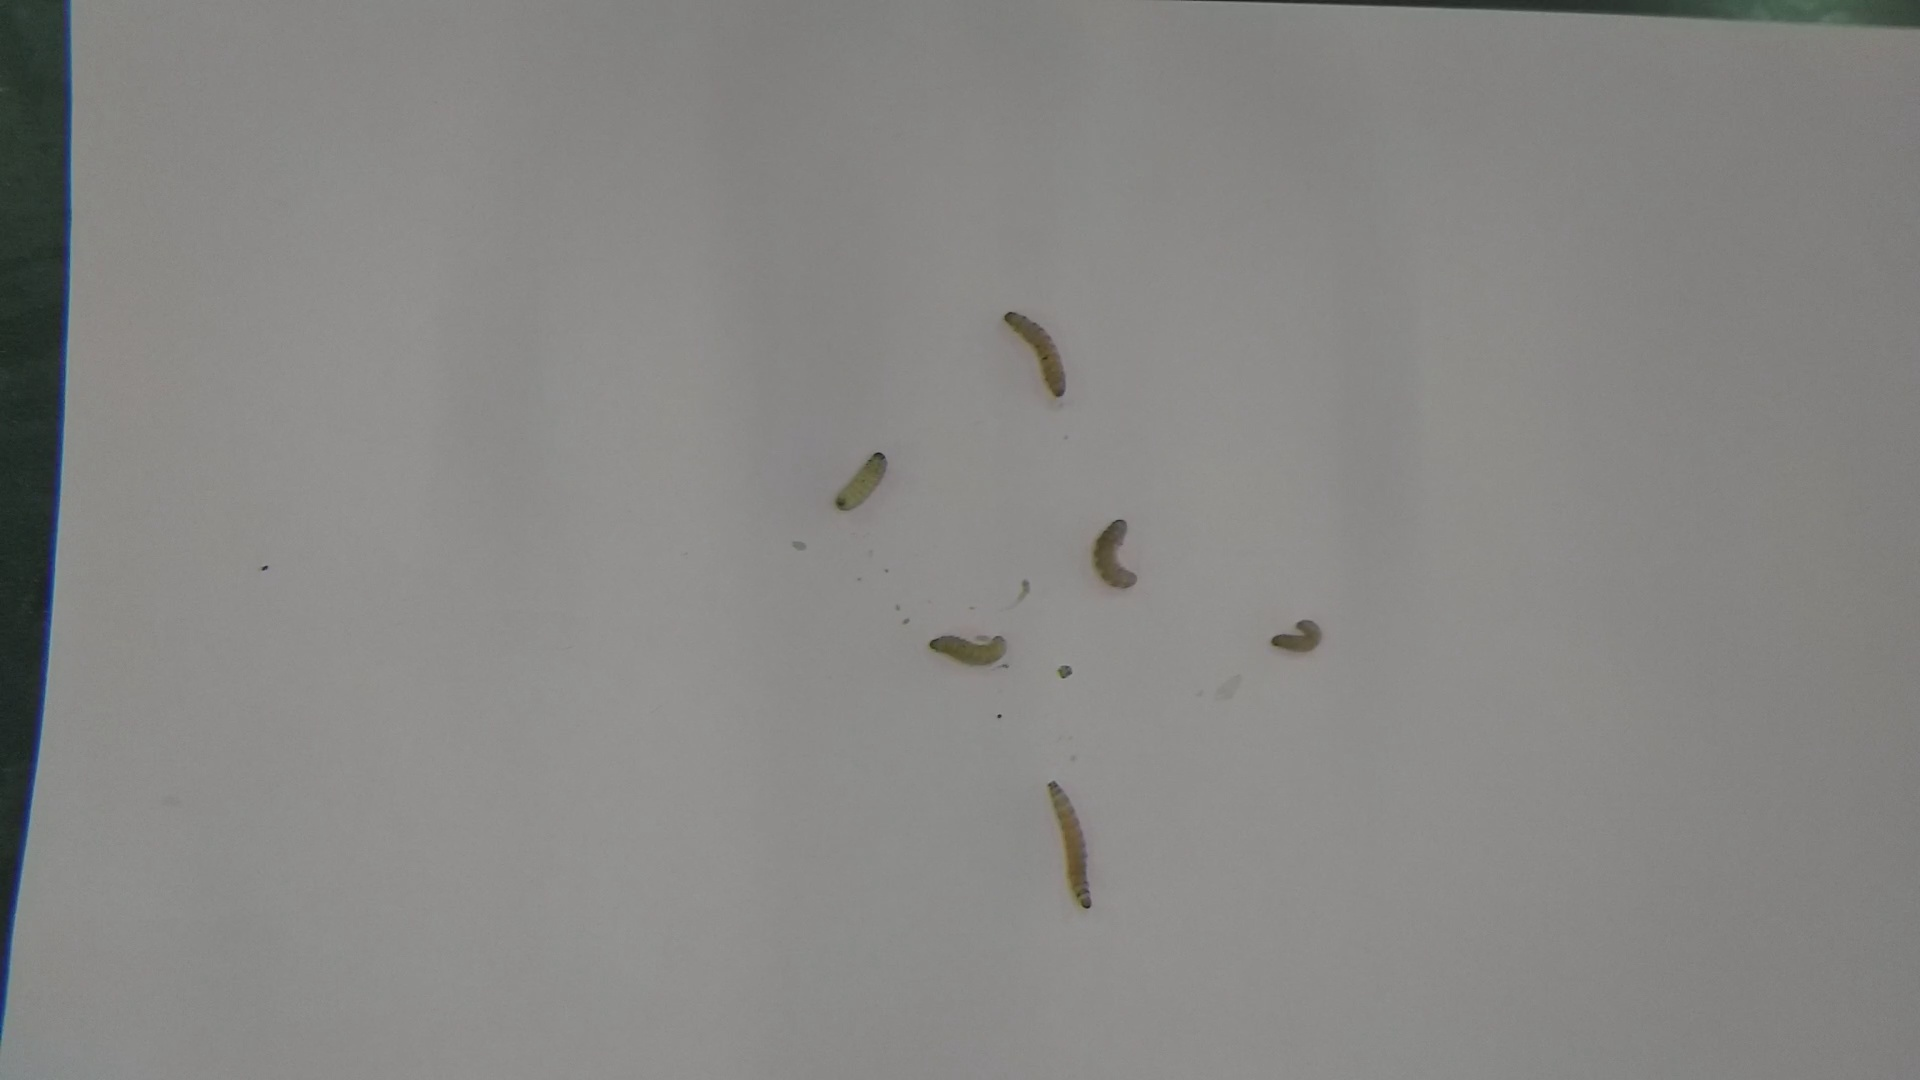efsb: (1036, 767, 1106, 927), (1000, 305, 1077, 406), (828, 436, 889, 521), (1087, 512, 1142, 600), (923, 625, 1017, 669), (1262, 615, 1331, 659)
